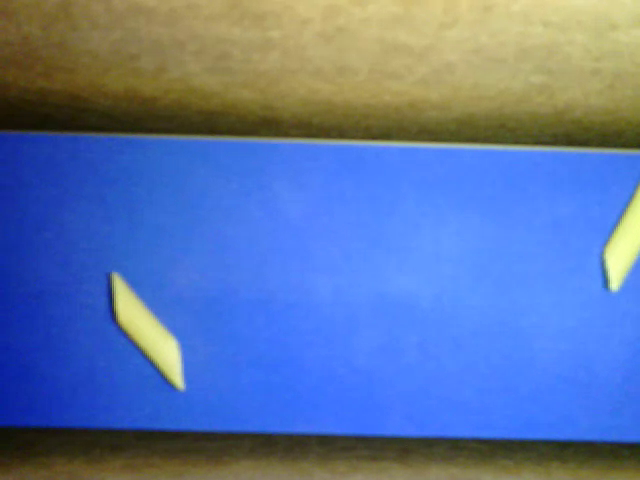penne: (111, 272, 185, 391), (603, 182, 639, 292)
